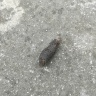Dog: (39, 39, 60, 66)
